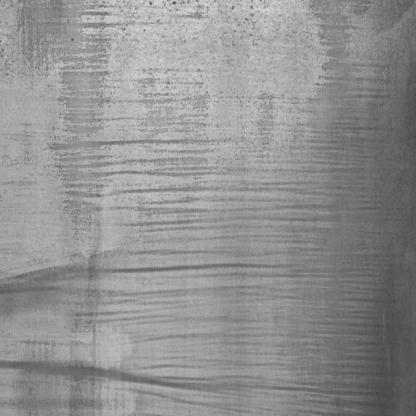waist_folding: (40, 60, 398, 404)
